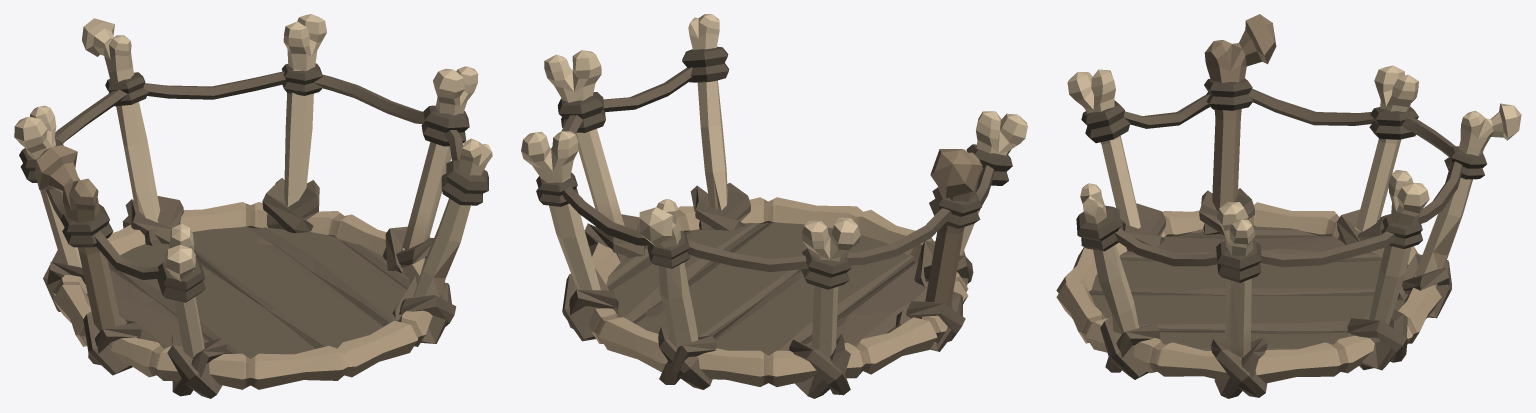
Rendered from SM_Prop_Crows_Nest_04.fbx.
3 views of the same model, side by side, from view 1: azimuth 30°, elevation 25°; view 2: azimuth 150°, elevation 25°; view 3: azimuth 270°, elevation 25° (orthographic). The views are drawn at different scales.
Parts seen in each view (by area): view 1: SM_Prop_Crows_Nest_04; view 2: SM_Prop_Crows_Nest_04; view 3: SM_Prop_Crows_Nest_04.
Part boxes in pixels (x1,y1,x2,y2): SM_Prop_Crows_Nest_04: (14, 14, 492, 398); SM_Prop_Crows_Nest_04: (521, 14, 1027, 398); SM_Prop_Crows_Nest_04: (1056, 14, 1521, 398).
Bounding box in the file's own units: 275 × 132 × 262.
